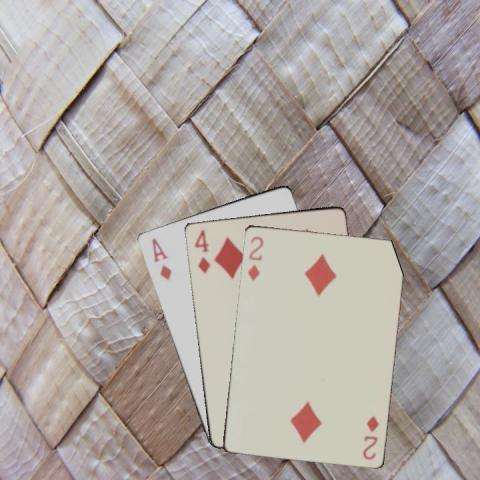2d: (359, 412, 380, 461), (244, 233, 265, 281)
4d: (191, 226, 211, 274)
Ad: (148, 235, 172, 282)
